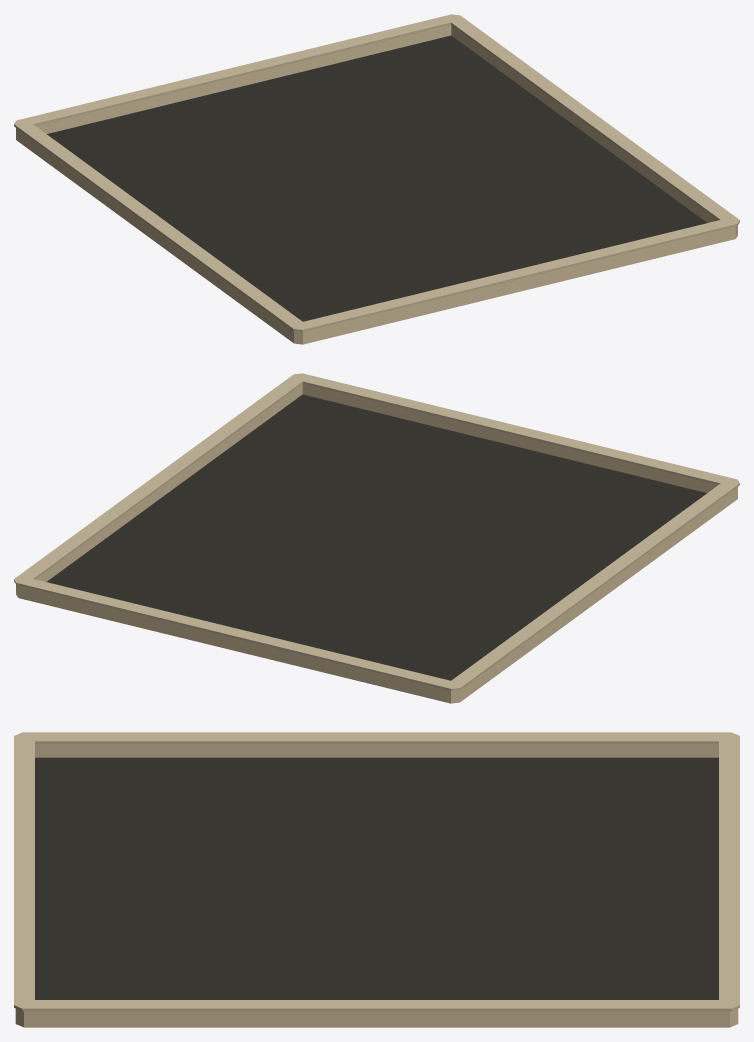
File: SM_Homes_H04_Roof_LOD2.fbx
3 renders of one model, top to bottom at view 1: azimuth 30°, elevation 25°; view 2: azimuth 150°, elevation 25°; view 3: azimuth 270°, elevation 25°, orthographic. The views are drawn at different scales.
Visible parts, largest first — view 1: SM_Homes_H04_Roof_LOD2; view 2: SM_Homes_H04_Roof_LOD2; view 3: SM_Homes_H04_Roof_LOD2.
Boxes of the visible parts, left/top/right/bottom form: SM_Homes_H04_Roof_LOD2: left=14, top=14, right=739, bottom=344; SM_Homes_H04_Roof_LOD2: left=14, top=373, right=739, bottom=703; SM_Homes_H04_Roof_LOD2: left=14, top=732, right=739, bottom=1027.
Size of the model in its own units: 9.05 by 10.05 by 0.34.
